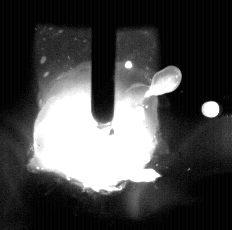arame: (92, 0, 116, 135)
poca: (33, 0, 158, 230)
